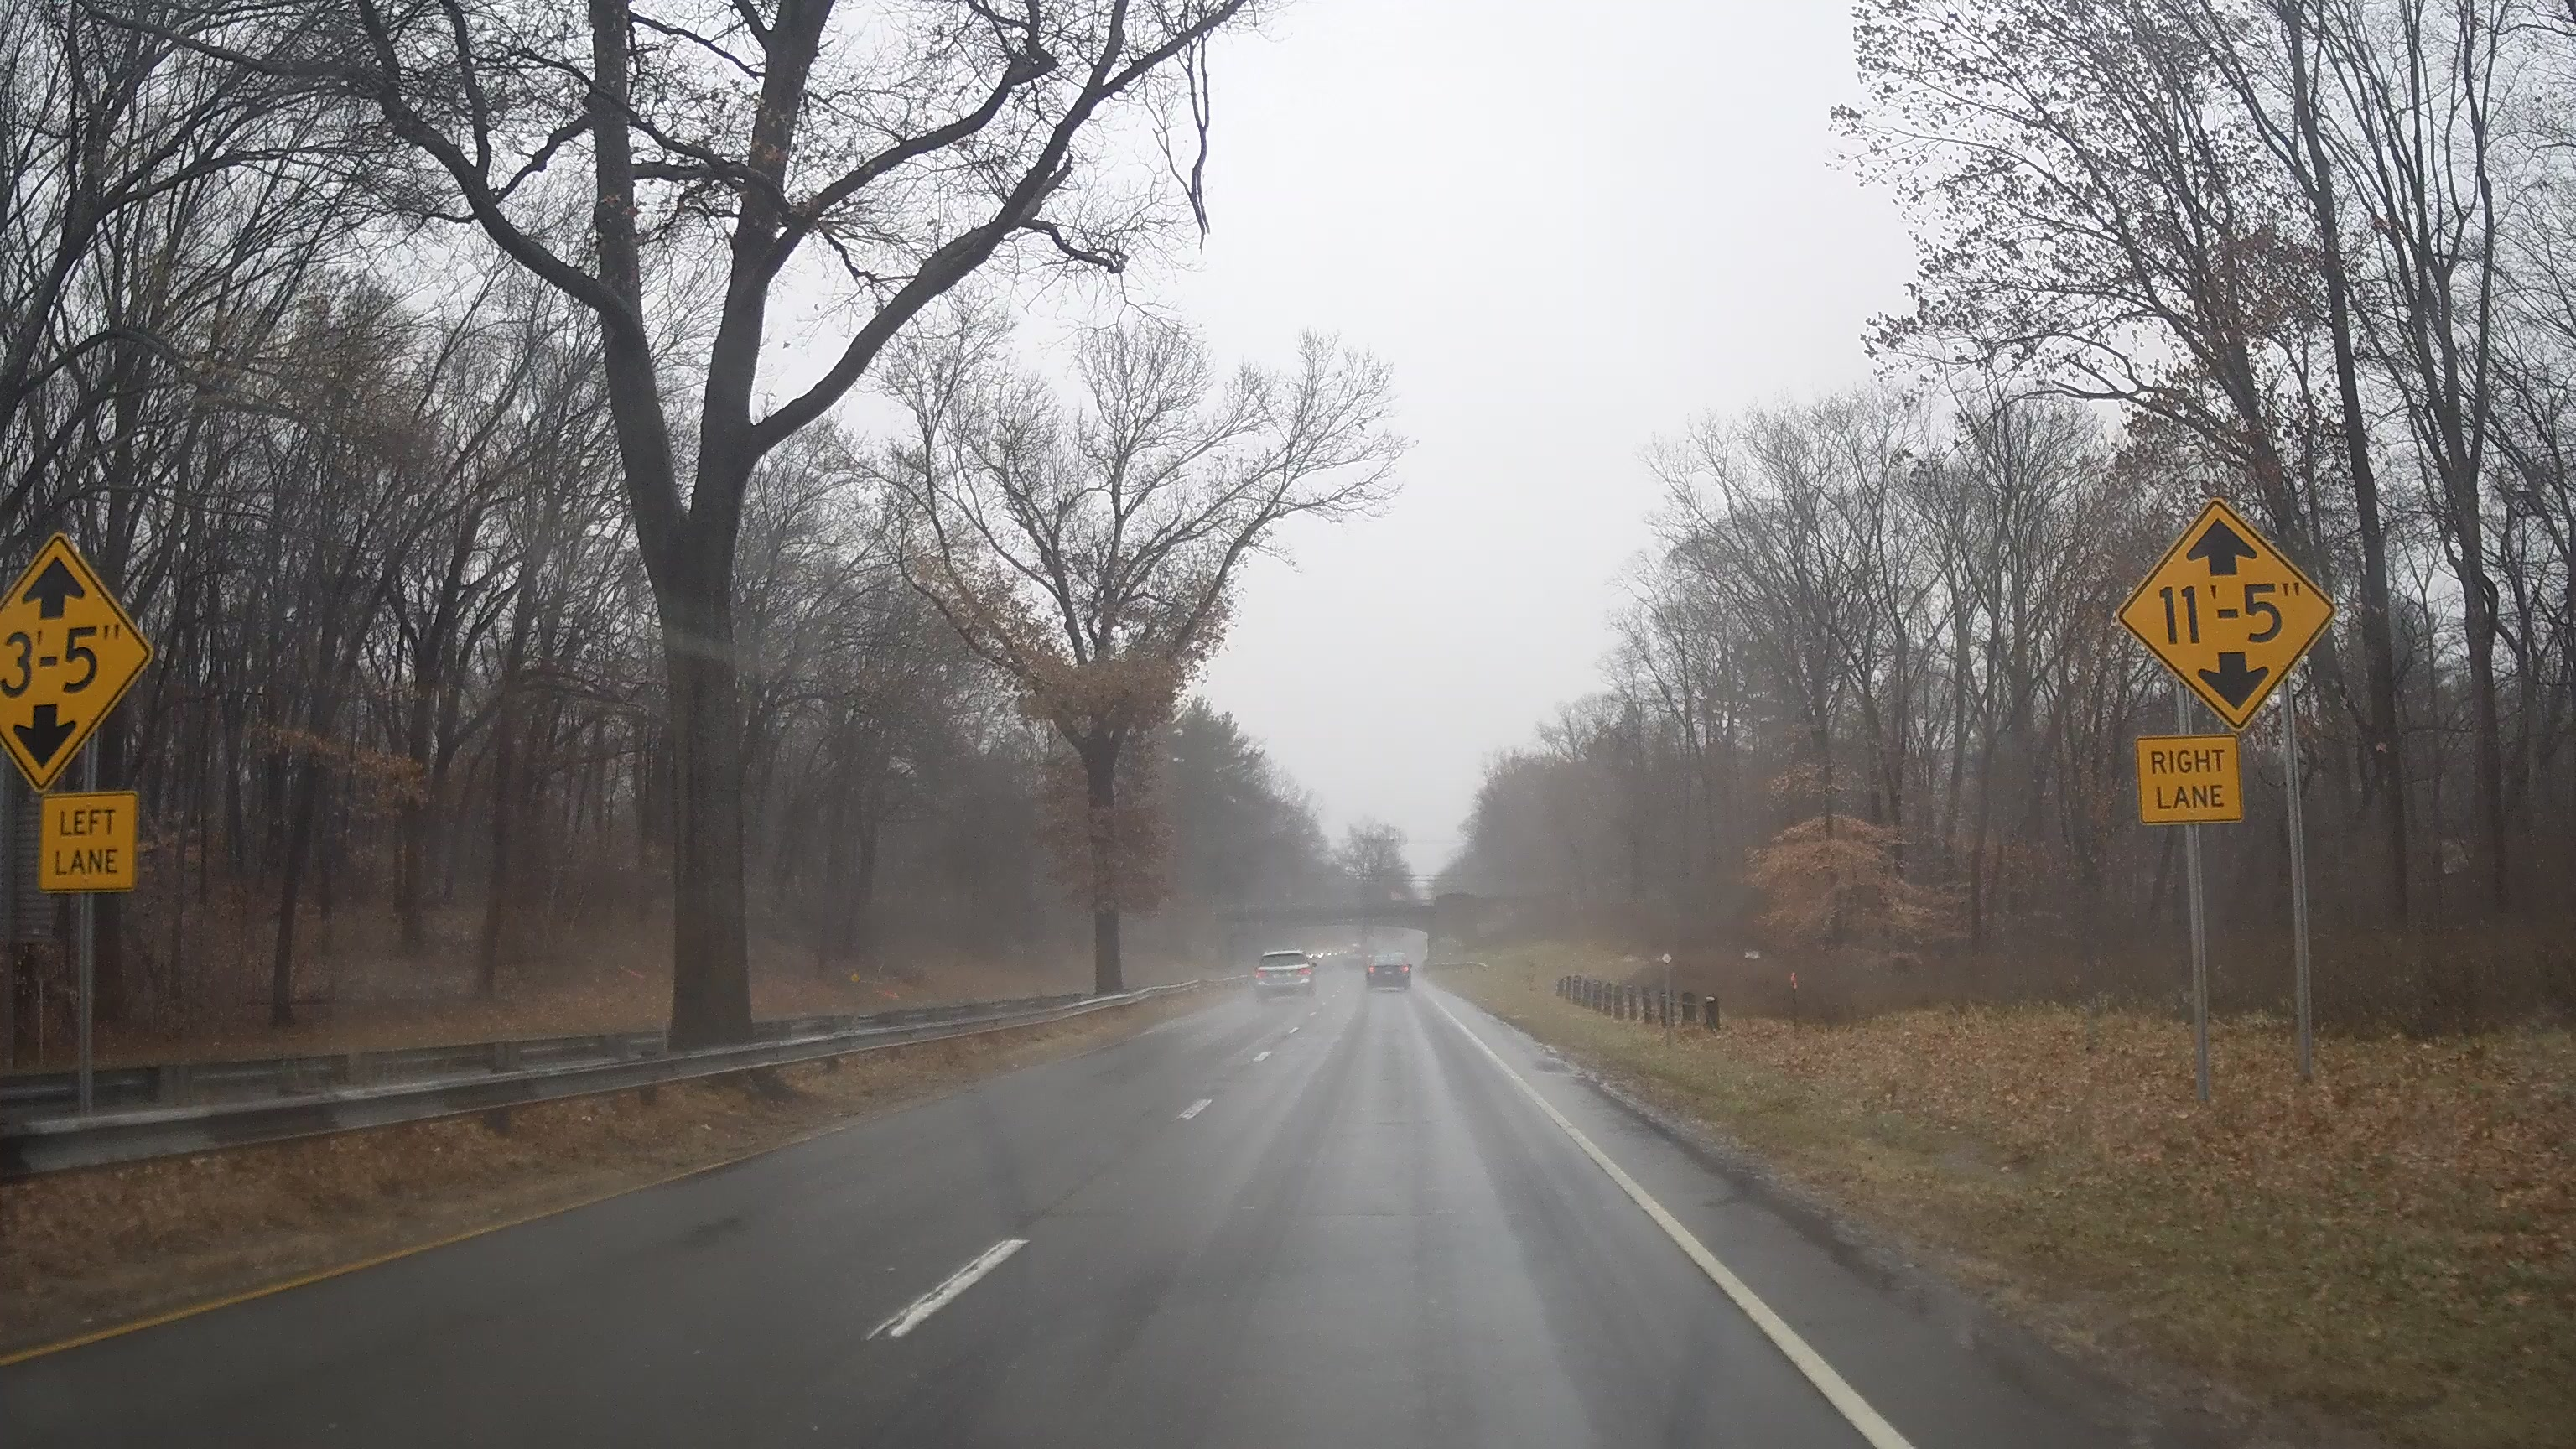low-clearance-sign: (2114, 497, 2337, 732), (0, 531, 156, 793)
